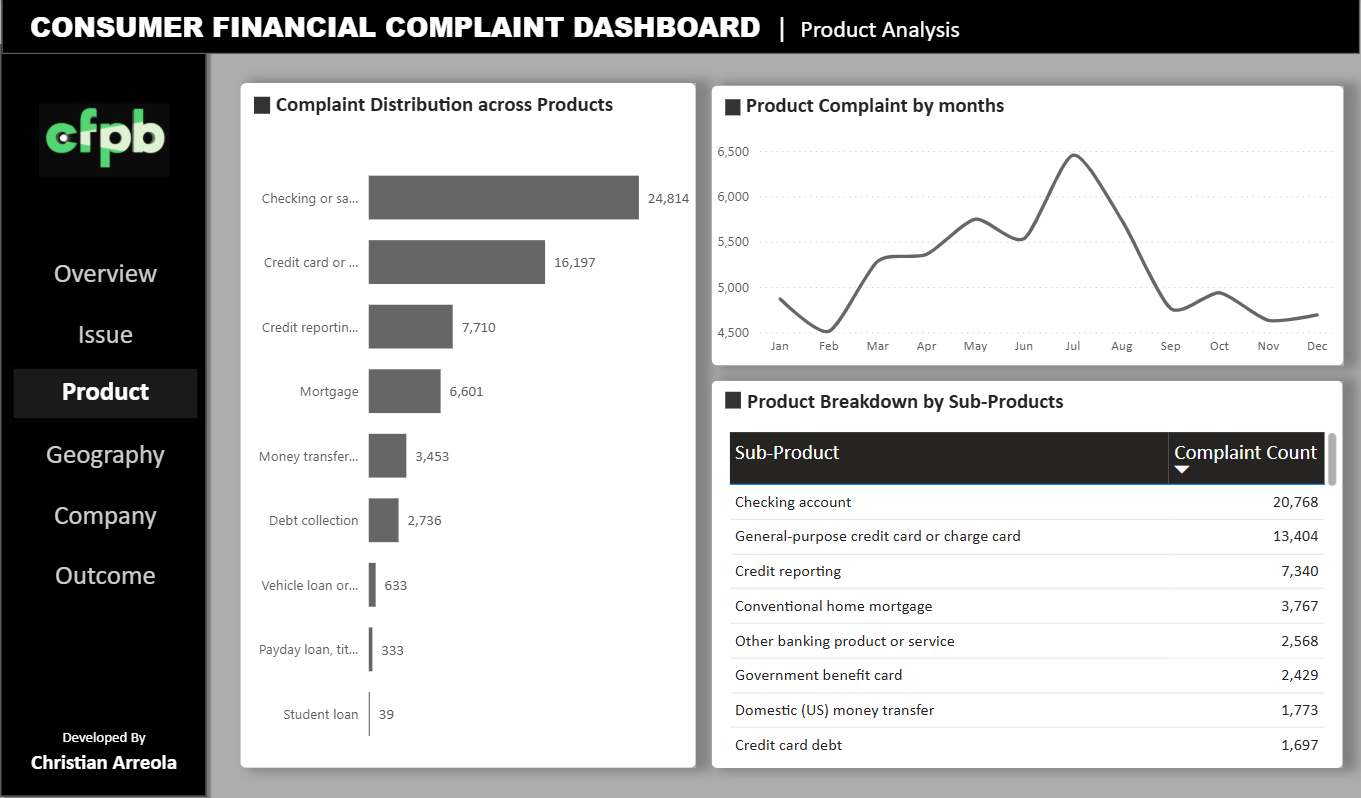

The dashboard page shown, as its layout file describes it:
{"tool":"powerbi","page":{"name":"Product","canvas":[1280,720],"ordinal":2},"visuals":[{"type":"shape","box":[39.6,34.8,197.8,685.5],"z":1000},{"type":"shape","box":[46.5,0,1213.5,50],"z":2000},{"type":"textbox","box":[51.8,3.5,866.5,50],"z":3000},{"type":"shape","box":[259.7,76.5,406.9,611.7],"z":4000},{"type":"barChart","fields":{"Y":["Complaints.Complaint Count"],"Category":["Complaints.Product"]},"box":[260,122.9,407.1,565.7],"z":5000},{"type":"shape","box":[681.1,77.8,564.4,250],"z":6000},{"type":"shape","box":[681.2,341.2,563.8,346.2],"z":7000},{"type":"actionButton","box":[54.3,220.4,170,50],"z":8000},{"type":"actionButton","box":[54.3,274.4,170,50],"z":9000},{"type":"actionButton","box":[54.3,328.4,170,50],"z":10000},{"type":"actionButton","box":[54.3,382.4,170,50],"z":11000},{"type":"actionButton","box":[54.3,436.4,170,50],"z":12000},{"type":"actionButton","box":[54.3,490.4,170,50],"z":13000},{"type":"tableEx","fields":{"Values":["Complaints.Sub-Product 2","Complaints.Complaint Count"]},"box":[691.2,382.5,553.8,300],"z":14000},{"type":"textbox","box":[286.4,77.9,370.3,37.2],"z":15000},{"type":"shape","box":[272.1,88.7,14.4,15.6],"z":16000},{"type":"textbox","box":[707.5,344,371,37],"z":17000},{"type":"shape","box":[693.5,352,14,15],"z":18000},{"type":"lineChart","fields":{"Y":["Complaints.Complaint Count"],"Category":["Complaints.Month"]},"box":[681.2,122.5,563.8,205],"z":19000},{"type":"textbox","box":[707.3,79.1,370.9,36.4],"z":20000},{"type":"shape","box":[693.6,90,13.6,14.5],"z":21000},{"type":"textbox","box":[91.1,645.6,96.7,30],"z":22000},{"type":"textbox","box":[58.2,666.4,160.9,36.4],"z":23000},{"type":"image","box":[75,89.5,128.4,75],"z":24000}]}

Visuals, with their boxes on the page's 1280x720 design canvas (x1, y1, x2, y2). These are canvas units, not pixel positions in the 1361x798 screenshot, which may show the page scaled, cropped or inside an application window:
shape: (40,35,237,720)
shape: (46,0,1260,50)
textbox: (52,4,918,54)
shape: (260,76,667,688)
barChart - Complaints.Complaint Count x Complaints.Product: (260,123,667,689)
shape: (681,78,1246,328)
shape: (681,341,1245,687)
actionButton: (54,220,224,270)
actionButton: (54,274,224,324)
actionButton: (54,328,224,378)
actionButton: (54,382,224,432)
actionButton: (54,436,224,486)
actionButton: (54,490,224,540)
tableEx - Complaints.Sub-Product 2 x Complaints.Complaint Count: (691,382,1245,682)
textbox: (286,78,657,115)
shape: (272,89,286,104)
textbox: (708,344,1078,381)
shape: (694,352,708,367)
lineChart - Complaints.Complaint Count x Complaints.Month: (681,122,1245,328)
textbox: (707,79,1078,116)
shape: (694,90,707,104)
textbox: (91,646,188,676)
textbox: (58,666,219,703)
image: (75,90,203,164)
